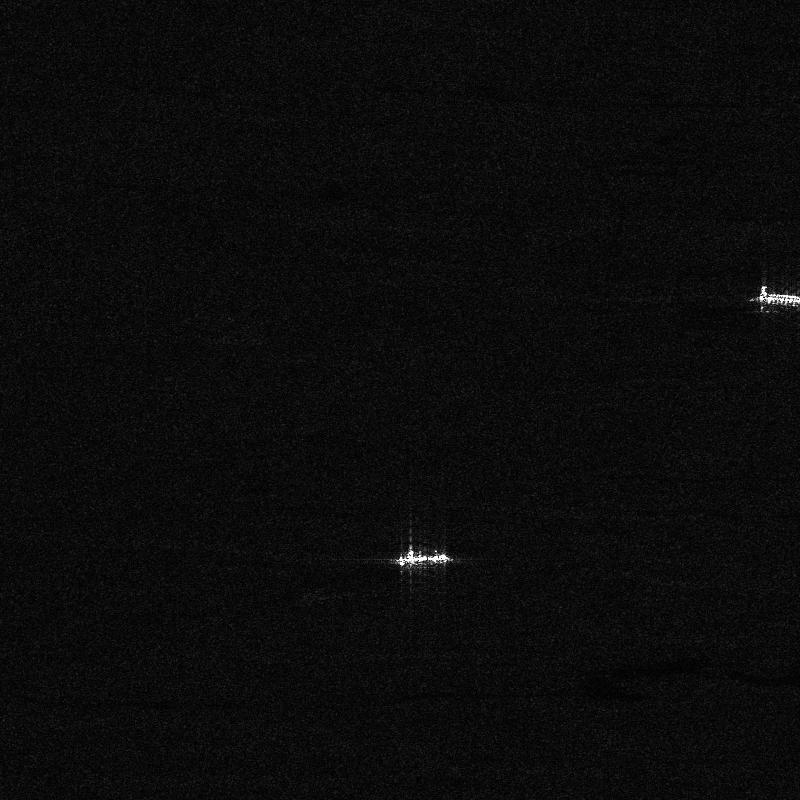ship: (756, 285, 799, 306), (398, 550, 451, 566)
